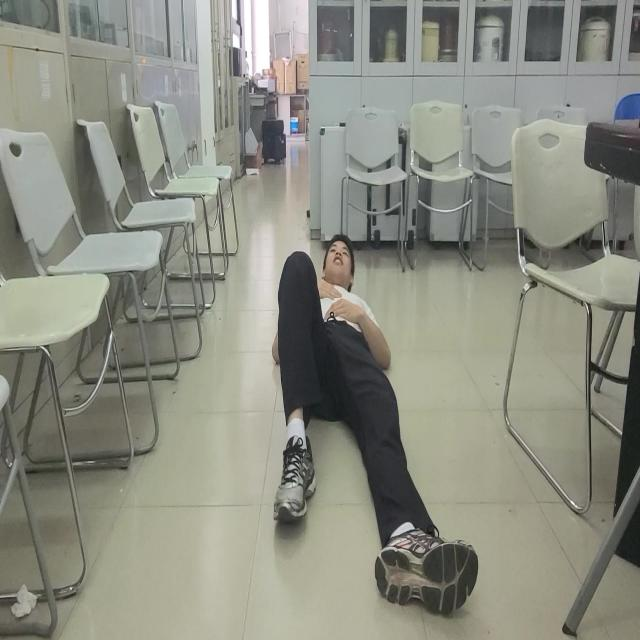Fall-Detected: (273, 229, 478, 617)
